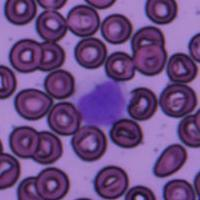L: (77, 77, 127, 127)
